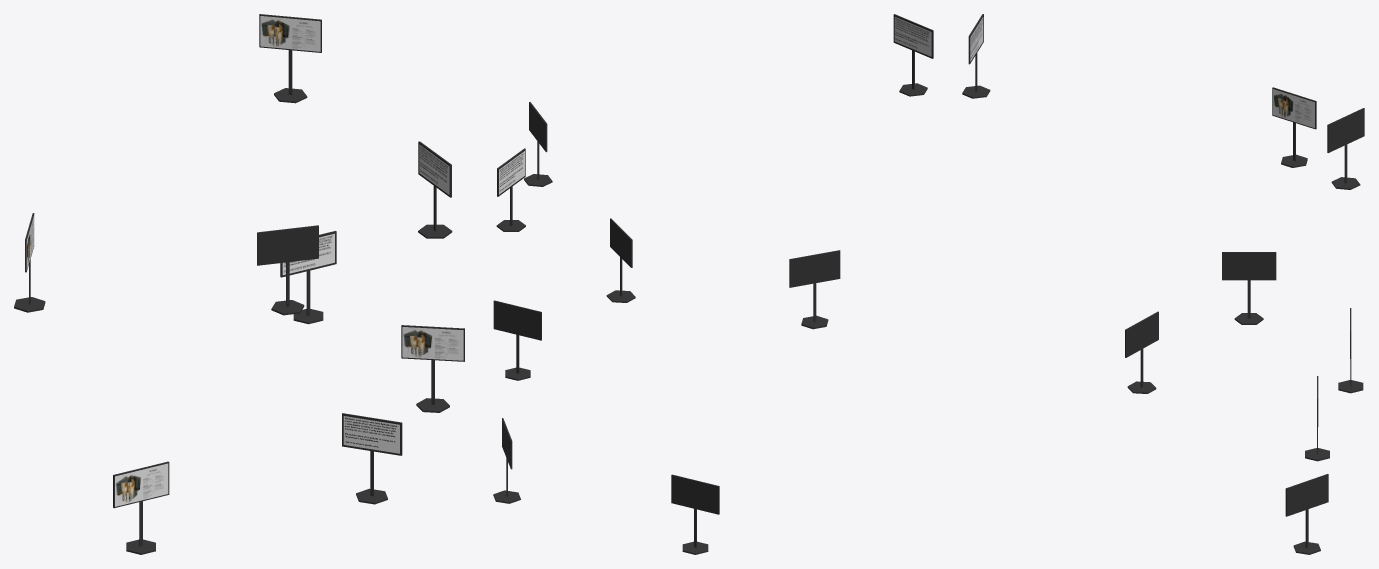
The model's file is panneaux.glb.
3 views of the same model, side by side, from view 1: azimuth 30°, elevation 25°; view 2: azimuth 150°, elevation 25°; view 3: azimuth 270°, elevation 25° (orthographic). The views are drawn at different scales.
Parts seen in each view (by area): view 1: panneau.002, panneau.006, panneau.007, panneau, panneau.001, panneau.005, panneau.003, panneau.004; view 2: panneau.004, panneau.003, panneau.001, panneau.007, panneau.005, panneau.002, panneau.006, panneau; view 3: panneau.005, panneau, panneau.004, panneau.006, panneau.002, panneau.007.
Boxes of the visible parts, <box> form: panneau.002: <box>401,325,464,412</box>; panneau.006: <box>259,14,321,103</box>; panneau.007: <box>257,225,318,315</box>; panneau: <box>342,413,402,504</box>; panneau.001: <box>113,461,169,554</box>; panneau.005: <box>418,141,452,238</box>; panneau.003: <box>280,231,336,324</box>; panneau.004: <box>14,213,45,312</box>; panneau.004: <box>789,250,840,329</box>; panneau.003: <box>493,300,541,380</box>; panneau.001: <box>671,474,719,554</box>; panneau.007: <box>893,14,933,96</box>; panneau.005: <box>496,148,525,231</box>; panneau.002: <box>606,218,635,302</box>; panneau.006: <box>524,102,552,186</box>; panneau: <box>493,418,520,503</box>; panneau.005: <box>1222,252,1276,324</box>; panneau: <box>1285,474,1328,554</box>; panneau.004: <box>1272,87,1316,167</box>; panneau.006: <box>1327,108,1364,189</box>; panneau.002: <box>1125,311,1158,393</box>; panneau.007: <box>962,14,990,98</box>.
Size of what is drawn, in the model's own units: 15.11 by 16.88 by 15.1.
Materials: 4 (2 with a texture image).
